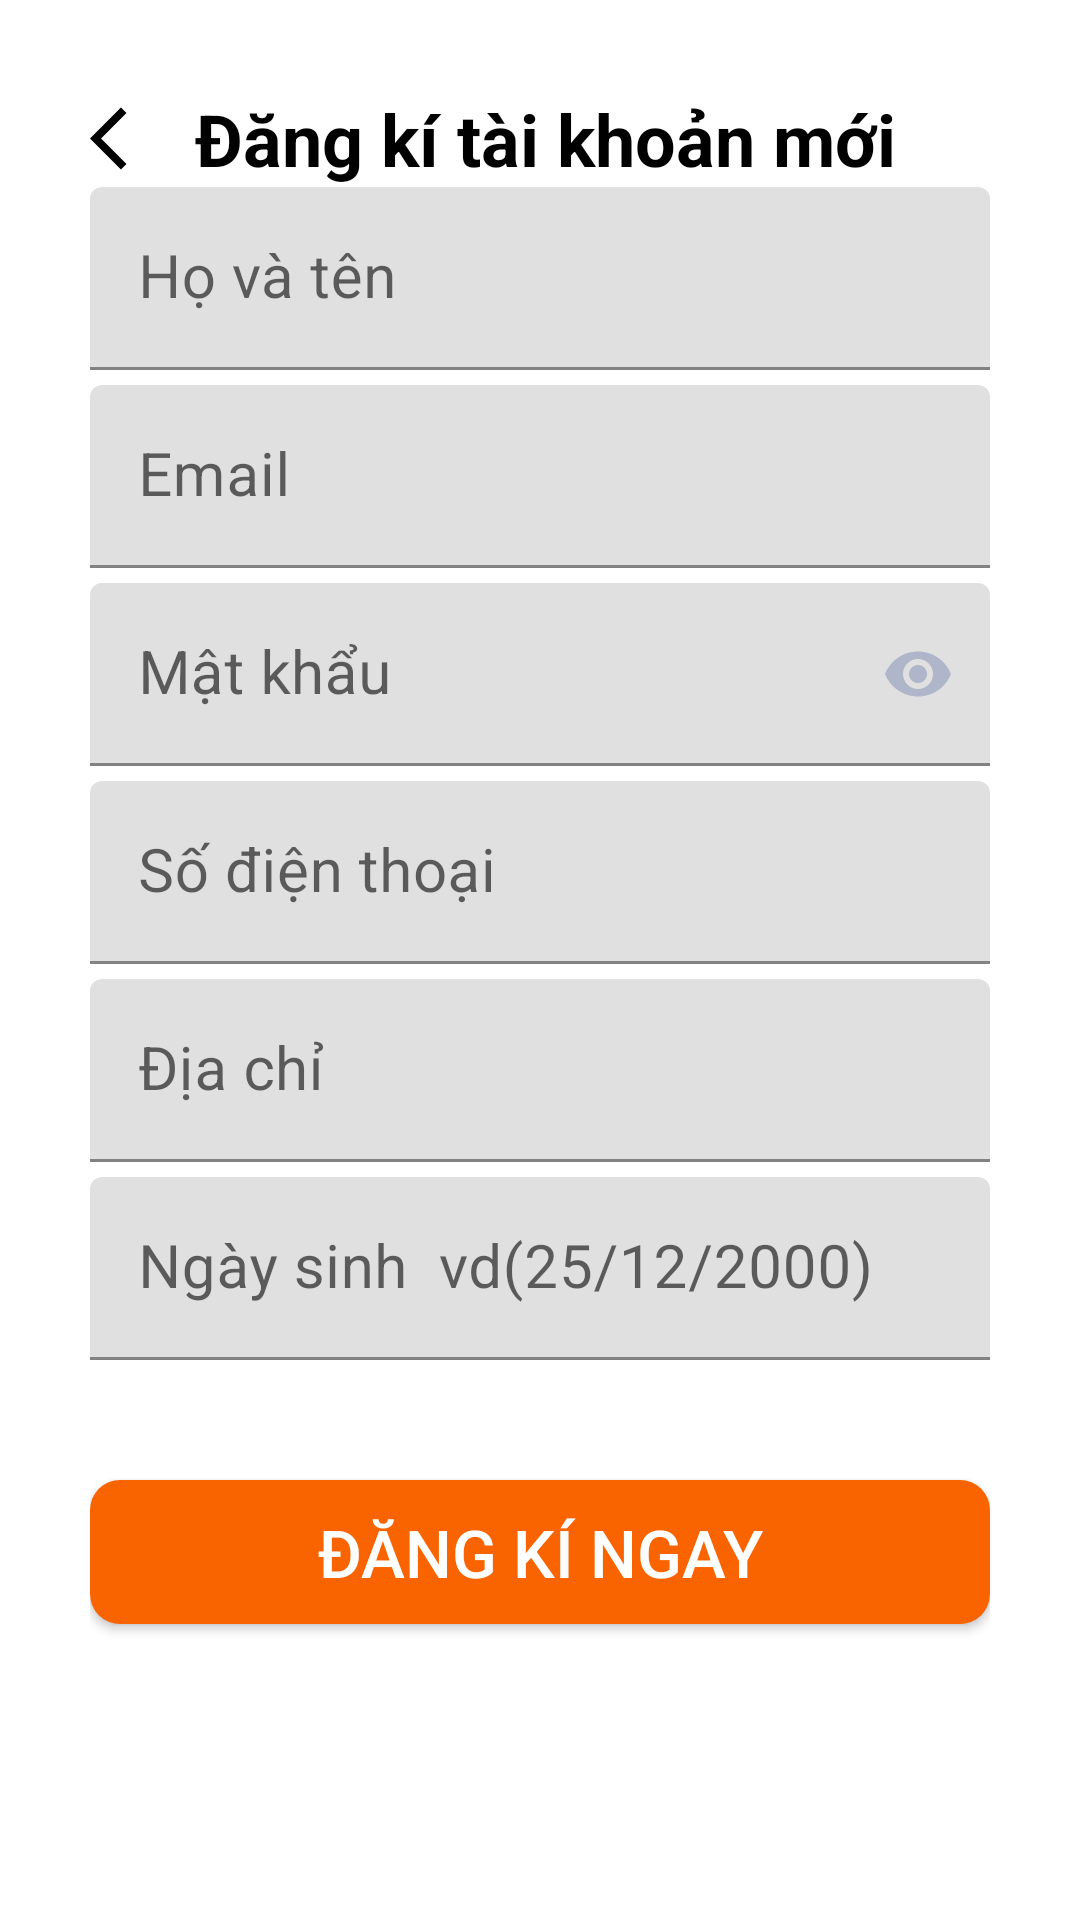

Icons on this 1080w x 1920h Android screen, each with the point to tap as point (x, y):
back: point (108, 138)
